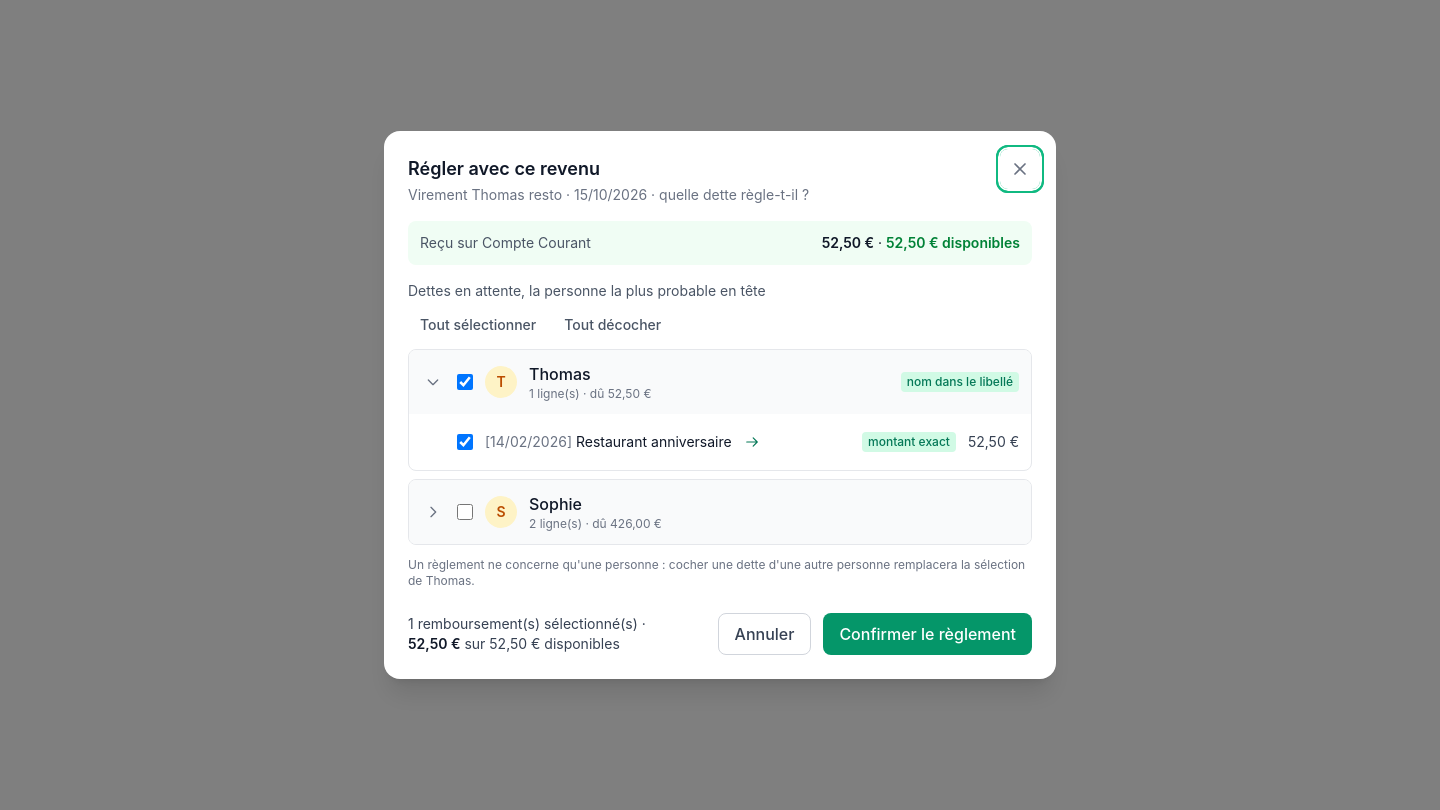
Test: IncomeSettlementModal › keeps the server refusal in the modal
The width and height of the screenshot is (1440, 810).
Click the button with test id "income-settlement-confirm" at (928, 634), box x1=823 y1=613 x2=1032 y2=655
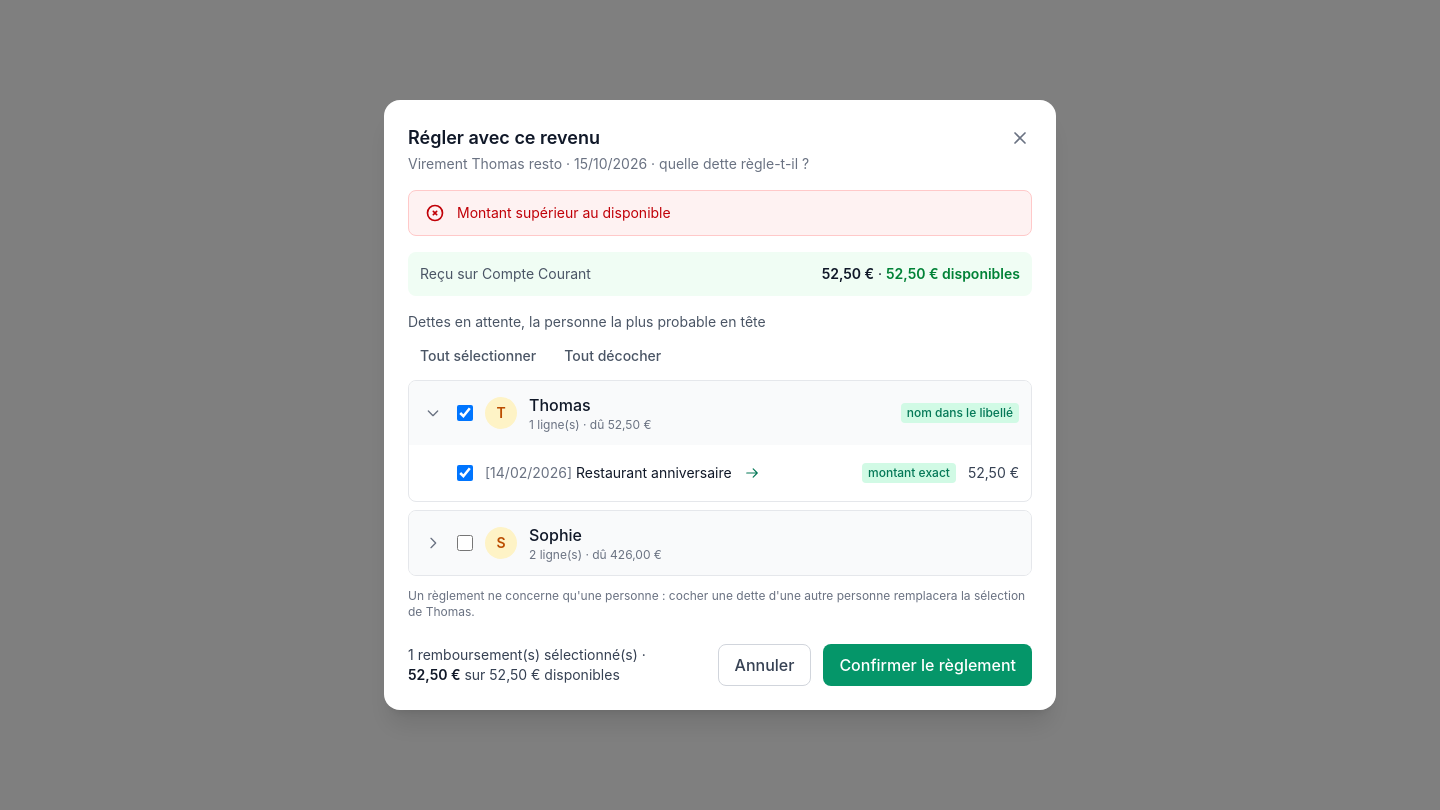
Now the text "Montant supérieur au disponible" is shown, box x1=457 y1=204 x2=671 y2=221
